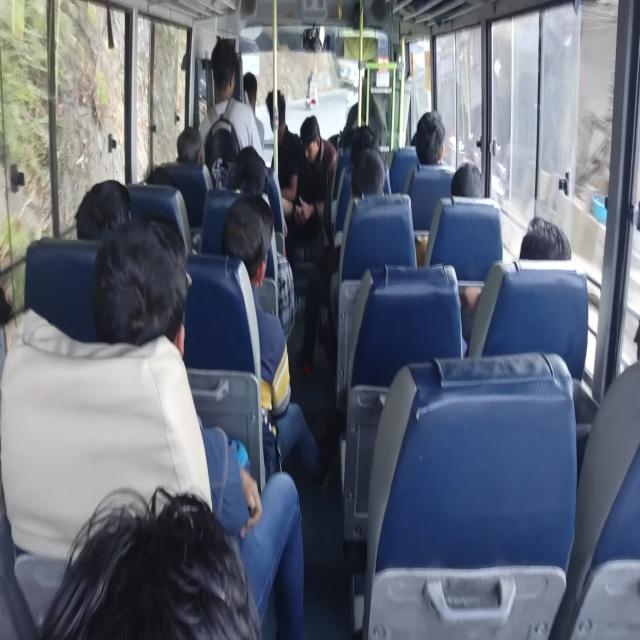person: (61, 452, 318, 640), (100, 221, 177, 350), (599, 283, 640, 422), (75, 184, 126, 256), (0, 265, 25, 399), (218, 207, 264, 279), (524, 201, 564, 281), (358, 154, 398, 206), (423, 111, 450, 179), (232, 163, 271, 210), (299, 119, 329, 173), (458, 158, 486, 207), (150, 156, 176, 201), (274, 87, 296, 135), (213, 51, 239, 90), (180, 114, 201, 157), (245, 77, 267, 108), (362, 126, 383, 158), (354, 120, 373, 152), (408, 135, 432, 159), (238, 141, 258, 165)
